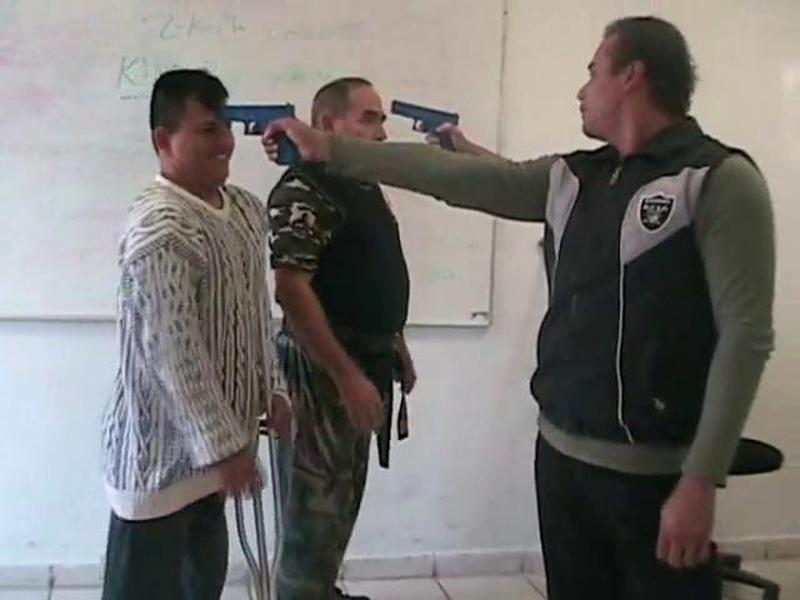Pistola: (216, 97, 307, 162), (385, 97, 474, 152)
